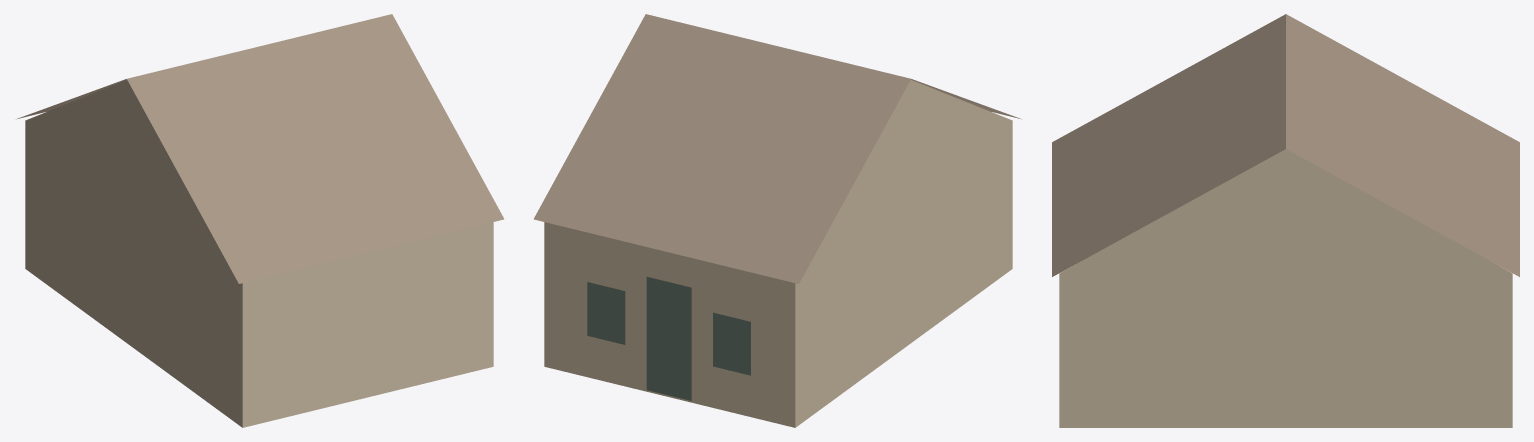
Rendered from recon_1835_north_a1_008__recommended_1835.glb.
3 renders of one model, left to right at view 1: azimuth 30°, elevation 25°; view 2: azimuth 150°, elevation 25°; view 3: azimuth 270°, elevation 25°, orthographic. The views are drawn at different scales.
Parts seen in each view (by area): view 1: recon_1835_north_a1_008__recommended_1835; view 2: recon_1835_north_a1_008__recommended_1835; view 3: recon_1835_north_a1_008__recommended_1835.
Part boxes in pixels (box(x1,y1,x2,y2)): recon_1835_north_a1_008__recommended_1835: box(16, 14, 503, 427); recon_1835_north_a1_008__recommended_1835: box(534, 14, 1021, 427); recon_1835_north_a1_008__recommended_1835: box(1052, 14, 1519, 427).
Size of the model in its own units: 5.16 by 5.04 by 7.55.
